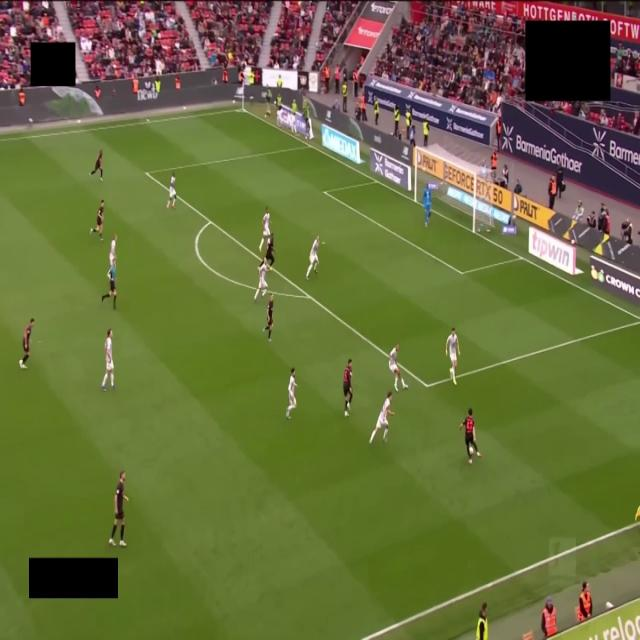ball: (469, 446, 474, 455)
player: (109, 471, 128, 547), (370, 392, 393, 443), (460, 408, 481, 463), (389, 344, 408, 391), (446, 328, 460, 384), (19, 318, 34, 368), (102, 329, 114, 391), (306, 236, 320, 280), (254, 259, 268, 301), (91, 200, 104, 241), (343, 359, 352, 416), (286, 368, 296, 418), (259, 208, 270, 251), (264, 295, 273, 341), (90, 150, 103, 181), (423, 186, 431, 226), (167, 173, 176, 208), (265, 234, 274, 267), (109, 235, 117, 266)
referee: (102, 263, 116, 309)
